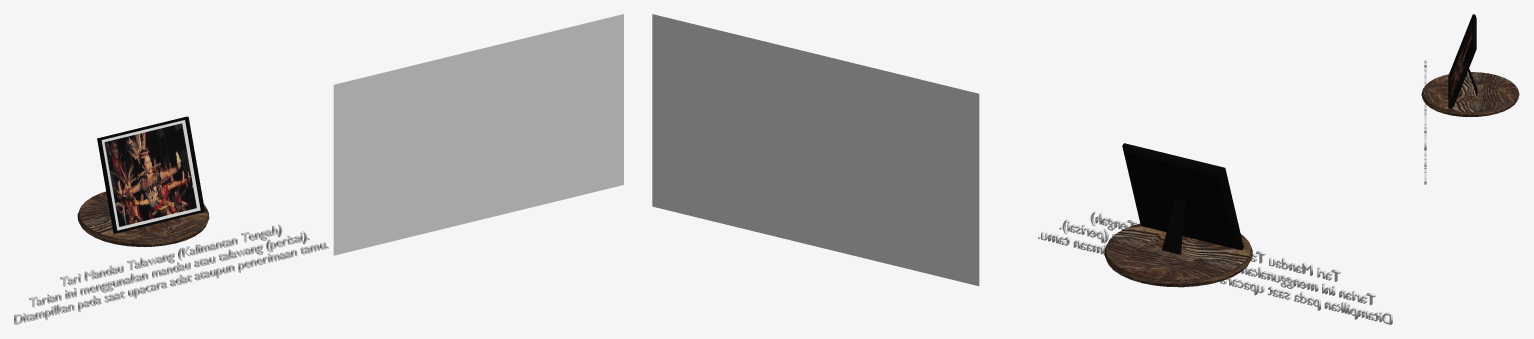
Rendered from 24. Tari Mandau Talewang.fbx.
The picture shows the model from 3 angles, left to right: view 1: azimuth 30°, elevation 25°; view 2: azimuth 150°, elevation 25°; view 3: azimuth 270°, elevation 25°; orthographic projection. The views are drawn at different scales.
Parts seen in each view (by area): view 1: Plane, Cube.023, Text; view 2: Plane, Cube.023, Text; view 3: Cube.023, Text.
Part boxes in pixels (left/top/right/bottom): Plane: left=333, top=14, right=623, bottom=255; Cube.023: left=77, top=116, right=209, bottom=246; Text: left=14, top=224, right=328, bottom=324; Plane: left=652, top=14, right=979, bottom=285; Cube.023: left=1104, top=143, right=1252, bottom=287; Text: left=1038, top=211, right=1392, bottom=324; Cube.023: left=1421, top=14, right=1519, bottom=116; Text: left=1424, top=60, right=1426, bottom=184.
Size of the model in its own units: 6975 by 1800 by 1260.
6 materials, 3 textured.
